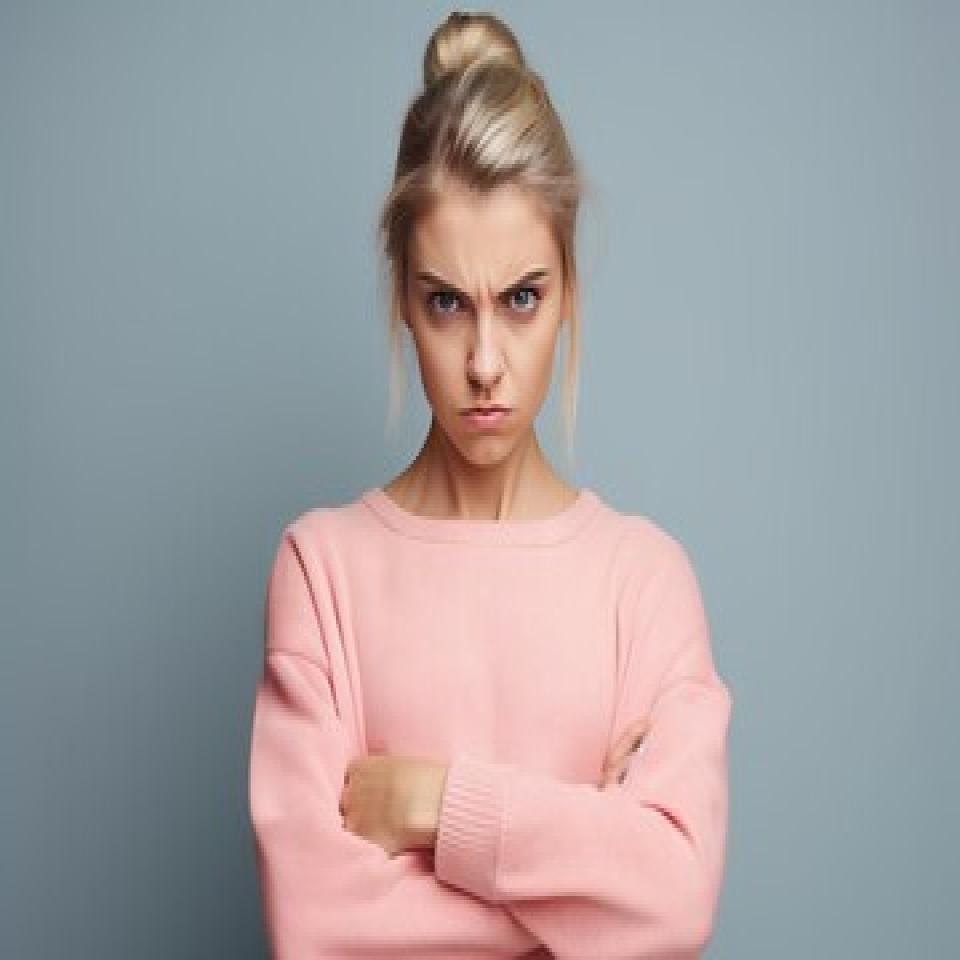Anger: (404, 219, 562, 458)
